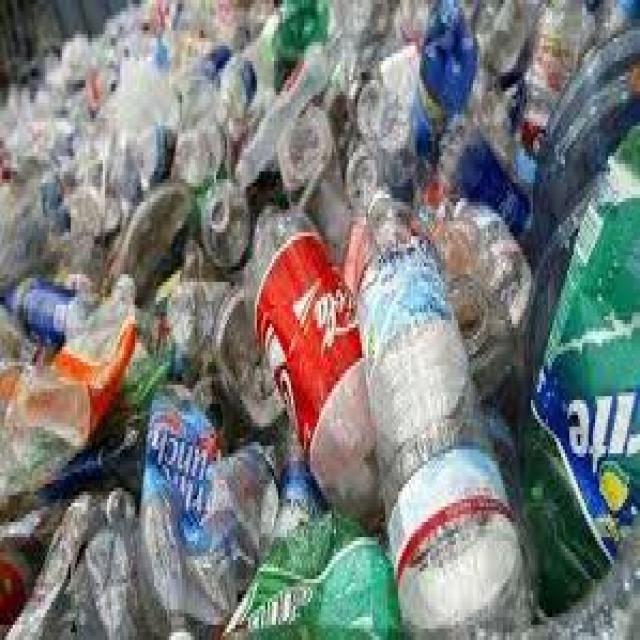heap: (40, 47, 628, 576)
